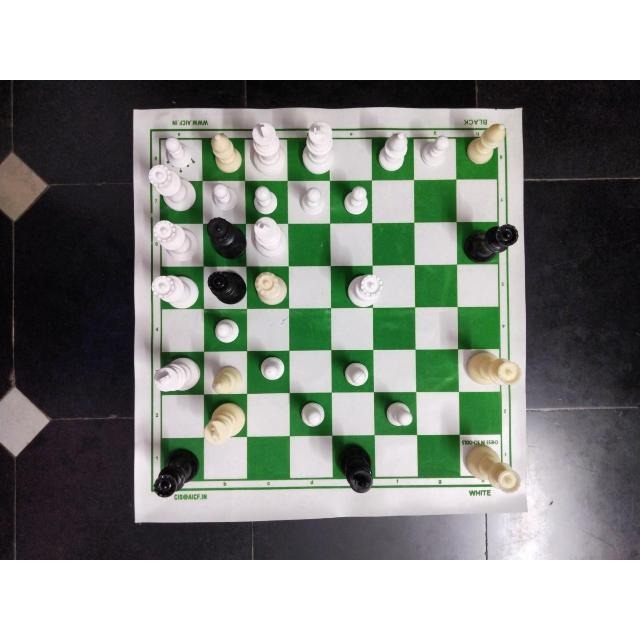black-king: (334, 443, 373, 493)
black-queen: (154, 448, 198, 498), (464, 224, 518, 264), (206, 216, 245, 260), (206, 271, 245, 303)
white-bishop: (465, 121, 505, 165), (209, 131, 243, 173), (377, 131, 407, 173), (210, 366, 244, 394)
white-king: (250, 122, 288, 176), (204, 402, 248, 446), (301, 122, 336, 174), (152, 356, 200, 392), (250, 216, 287, 257)
white-pawn: (420, 136, 452, 168), (161, 135, 193, 167), (213, 314, 243, 345), (299, 186, 327, 218), (209, 181, 238, 211), (342, 184, 370, 215), (342, 359, 370, 389), (252, 184, 279, 214), (385, 400, 413, 428), (299, 399, 325, 428), (259, 355, 285, 382)
white-queen: (465, 444, 521, 494), (146, 164, 197, 212), (152, 218, 200, 261), (463, 353, 520, 387), (151, 273, 200, 310), (344, 273, 384, 306), (254, 269, 288, 305)
